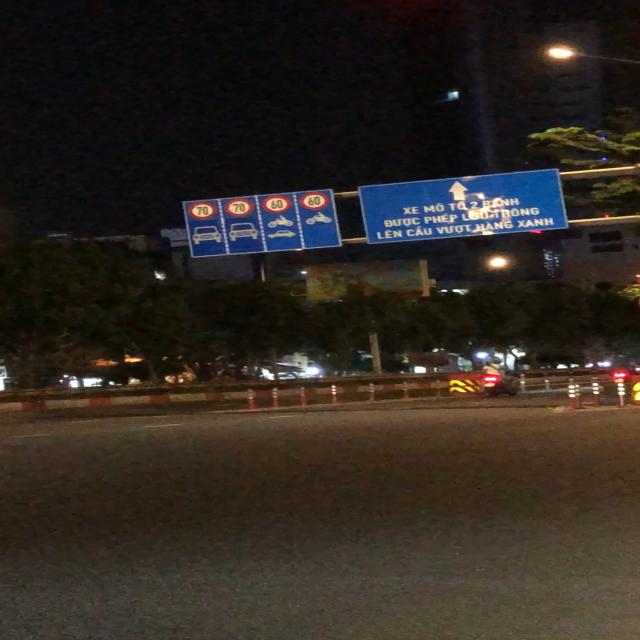Bien bao toc do toi da cho phep: (186, 200, 217, 221), (298, 192, 332, 211), (222, 199, 255, 218), (258, 195, 292, 213)
